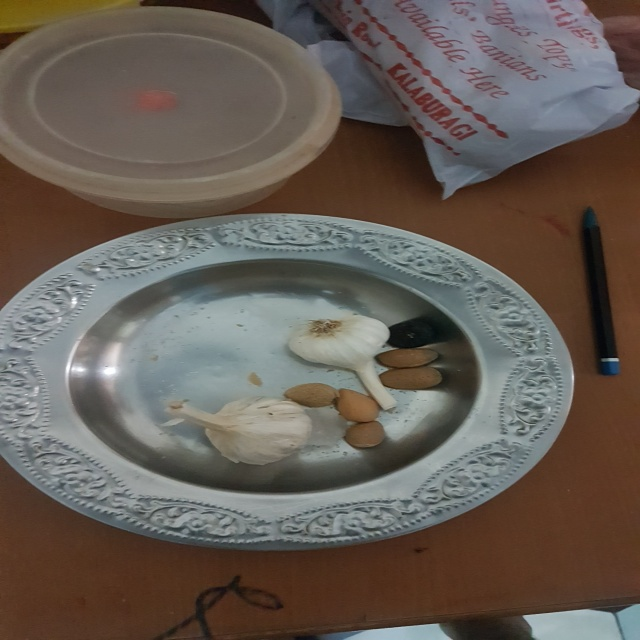garlic: (282, 309, 405, 410), (171, 396, 327, 465)
